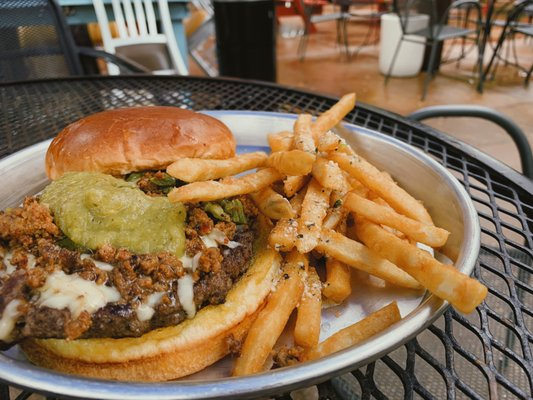pizza: (212, 0, 278, 82)
soup: (1, 108, 290, 383), (44, 106, 238, 194)
